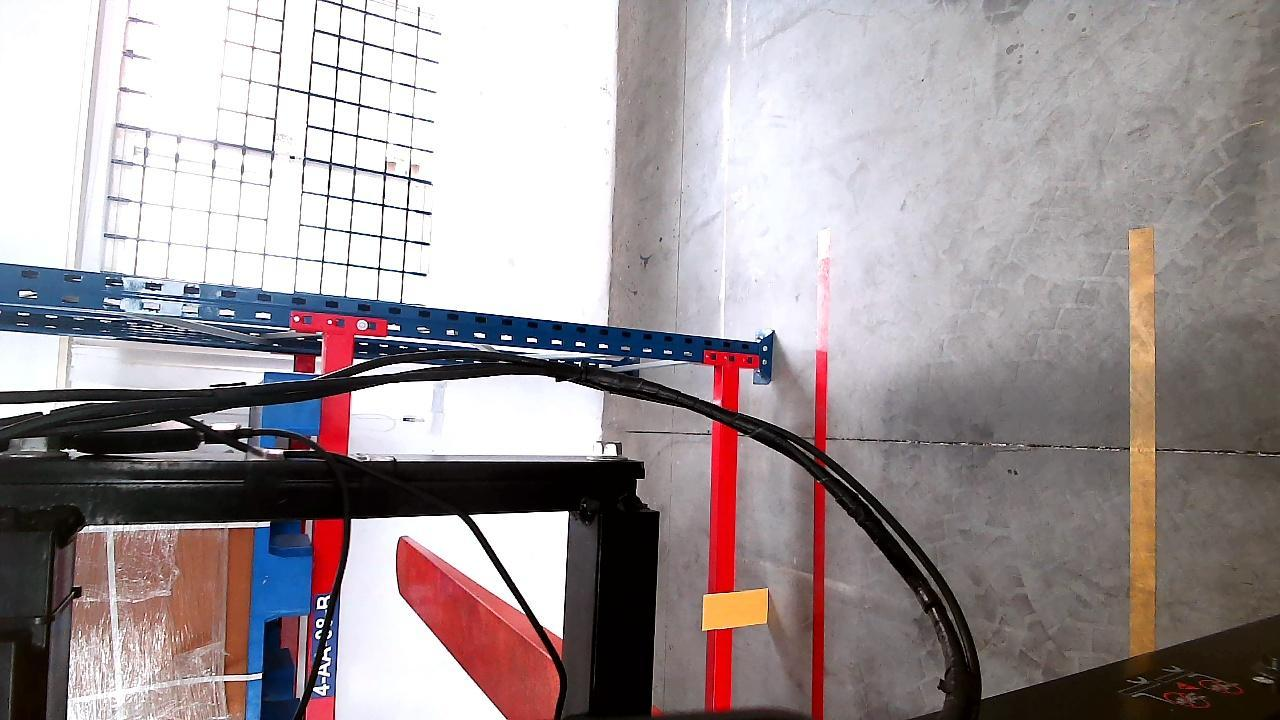red_line: (809, 230, 830, 716)
yellow_line: (1129, 223, 1159, 663)
